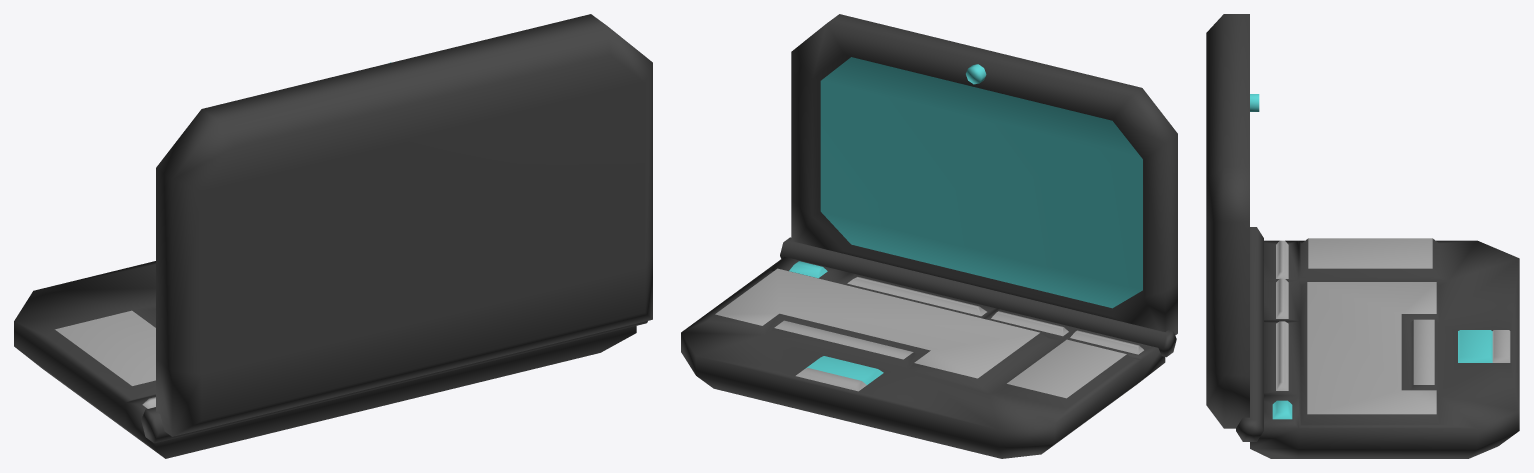
File: mesh_laptop_01.fbx
The picture shows the model from 3 angles, left to right: view 1: azimuth 30°, elevation 25°; view 2: azimuth 150°, elevation 25°; view 3: azimuth 270°, elevation 25°; orthographic projection. The views are drawn at different scales.
Parts seen in each view (by area): view 1: mesh_laptop_01; view 2: mesh_laptop_01; view 3: mesh_laptop_01.
Boxes of the visible parts, bbox=[...] form: mesh_laptop_01: bbox=[14, 14, 652, 458]; mesh_laptop_01: bbox=[681, 14, 1177, 458]; mesh_laptop_01: bbox=[1206, 14, 1519, 458].
Bounding box in the file's own units: 14.71 × 10.1 × 10.1.
